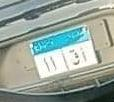1: (43, 56, 50, 73), (51, 56, 57, 71)
alif: (81, 48, 87, 63)
qaaf: (68, 49, 80, 66)
